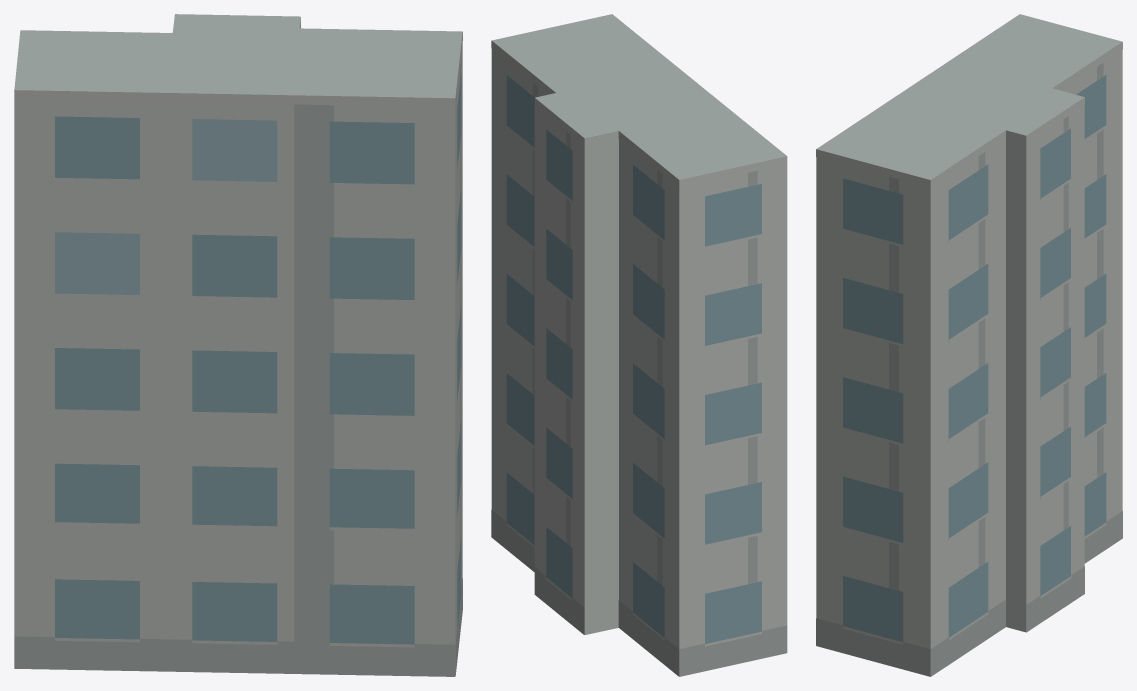
File: residential-c1d1cef6-3d87-43f8-8ee5-754ddb269ac9.glb
3 renders of one model, left to right at view 1: azimuth 30°, elevation 25°; view 2: azimuth 150°, elevation 25°; view 3: azimuth 270°, elevation 25°, orthographic. The views are drawn at different scales.
Visible parts, largest first — view 1: residential-c1d1cef6-3d87-43f8-8ee5-754ddb269ac9.tmp; view 2: residential-c1d1cef6-3d87-43f8-8ee5-754ddb269ac9.tmp; view 3: residential-c1d1cef6-3d87-43f8-8ee5-754ddb269ac9.tmp.
Part boxes in pixels (box(x1,y1,x2,y2)): residential-c1d1cef6-3d87-43f8-8ee5-754ddb269ac9.tmp: box(14, 14, 462, 676); residential-c1d1cef6-3d87-43f8-8ee5-754ddb269ac9.tmp: box(491, 14, 787, 676); residential-c1d1cef6-3d87-43f8-8ee5-754ddb269ac9.tmp: box(816, 14, 1122, 676).
Size of the model in its own units: 10.94 by 15.25 by 8.54.
